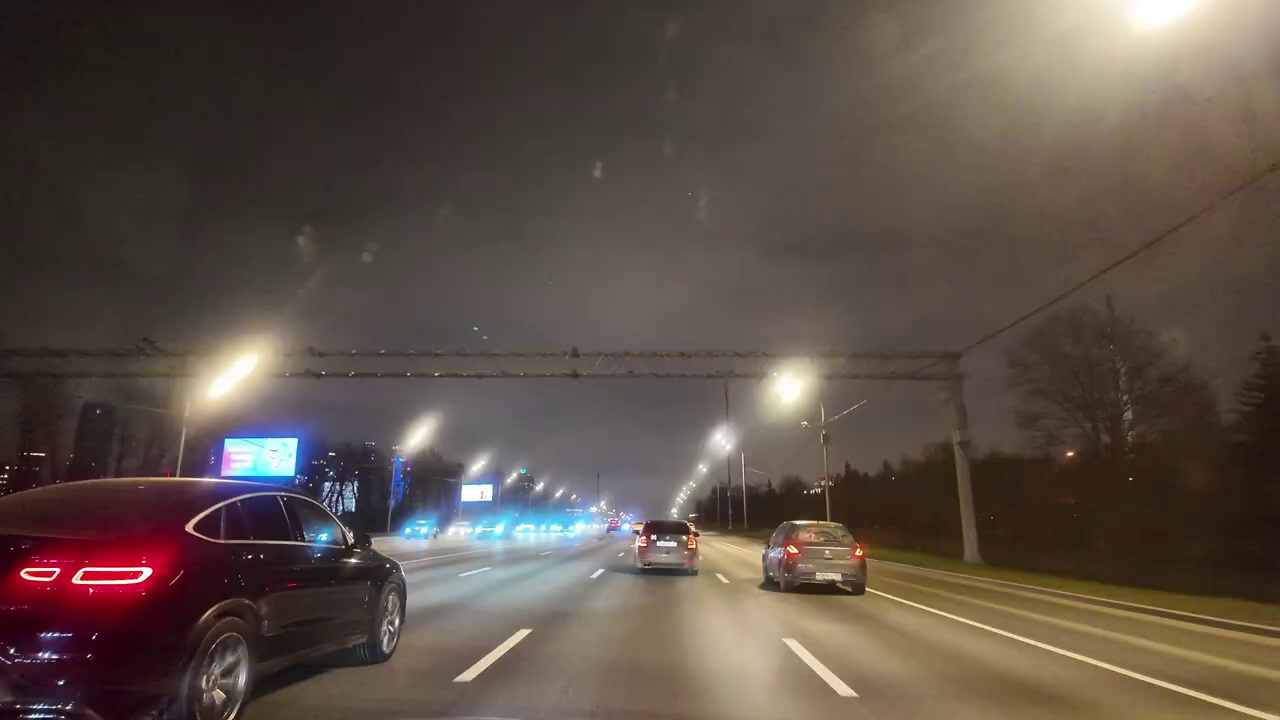acesa: (193, 343, 270, 414), (765, 363, 816, 418), (400, 411, 442, 456), (704, 424, 737, 457)
